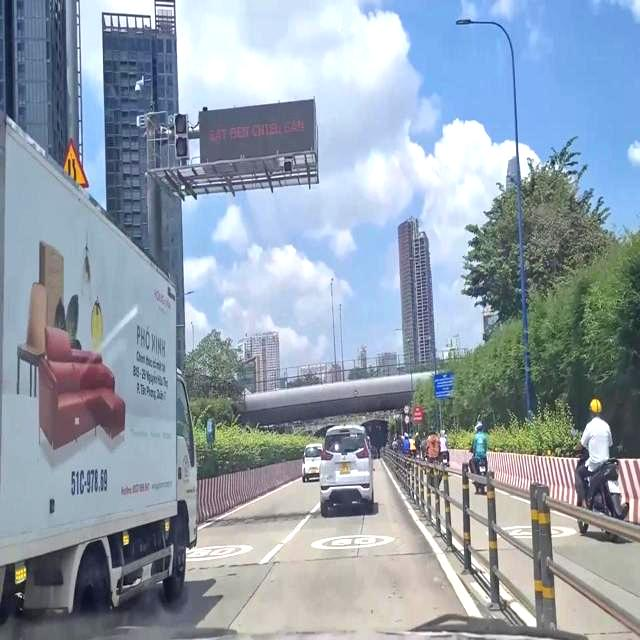Khác: (432, 370, 458, 396)
Đường hẹp: (48, 134, 88, 189)
